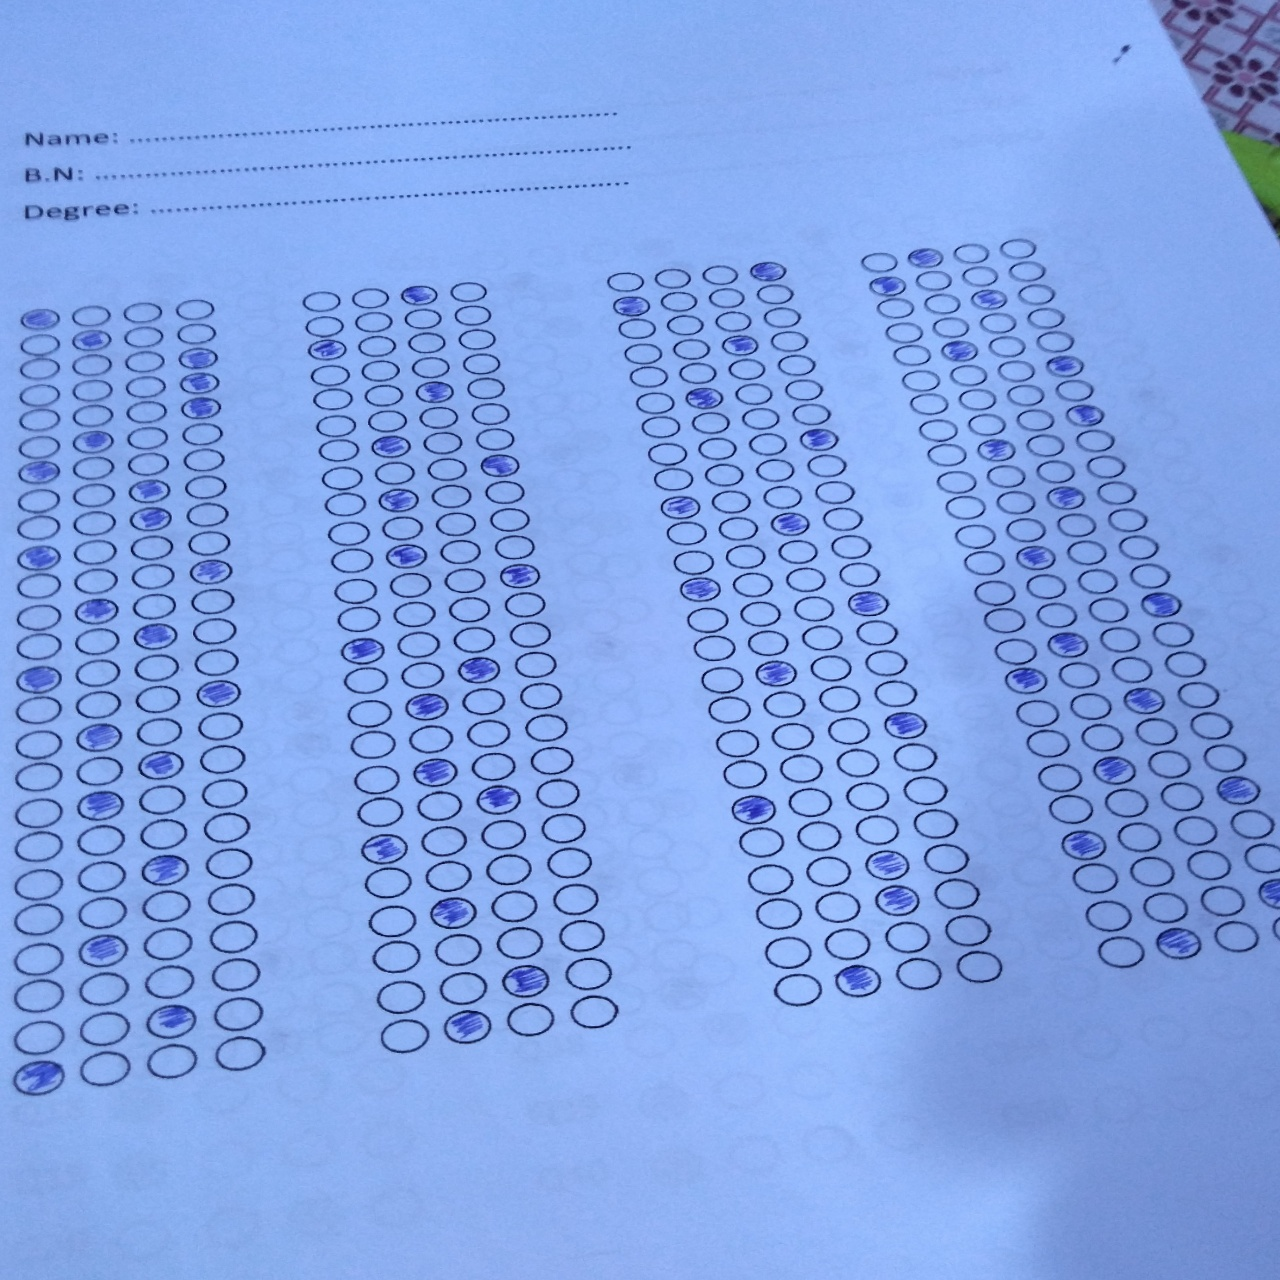not-c: (1083, 896, 1139, 935), (141, 924, 193, 965), (13, 1014, 64, 1055), (79, 1008, 130, 1049), (79, 1047, 130, 1088), (1068, 860, 1124, 898), (11, 939, 66, 976), (1141, 886, 1196, 924), (1199, 881, 1254, 919), (1211, 919, 1266, 956), (1090, 933, 1145, 971), (212, 1034, 264, 1074), (14, 978, 67, 1016), (145, 1040, 196, 1080), (568, 993, 621, 1030), (72, 822, 125, 858), (942, 908, 994, 946), (543, 843, 595, 879), (361, 864, 414, 900), (204, 844, 254, 881), (369, 903, 420, 940), (558, 918, 610, 954), (505, 999, 557, 1035), (496, 924, 547, 960), (762, 933, 813, 969), (844, 778, 896, 815), (855, 808, 906, 844), (433, 931, 485, 966), (370, 938, 423, 973), (379, 1017, 431, 1053), (437, 969, 490, 1005), (819, 924, 872, 959), (753, 897, 805, 932), (911, 806, 964, 842), (77, 857, 127, 894), (75, 896, 125, 932), (375, 978, 425, 1014), (141, 886, 192, 921), (207, 920, 259, 955), (954, 948, 1006, 983), (561, 955, 613, 990), (422, 856, 474, 891), (482, 851, 533, 886), (803, 855, 855, 890), (884, 921, 935, 956), (891, 740, 942, 775), (79, 971, 129, 1006), (14, 899, 64, 934), (549, 880, 599, 915), (893, 956, 944, 992), (811, 888, 862, 924), (743, 862, 794, 897), (772, 971, 823, 1006), (921, 839, 972, 874), (930, 876, 980, 911), (490, 888, 542, 922), (898, 772, 949, 806), (213, 996, 263, 1032), (212, 954, 261, 989), (14, 867, 63, 903), (191, 645, 243, 678), (132, 652, 184, 685), (145, 964, 195, 998), (207, 881, 257, 915), (75, 754, 125, 787), (11, 829, 61, 862), (13, 692, 61, 726), (14, 762, 64, 794), (14, 797, 64, 829), (203, 810, 250, 844), (138, 816, 185, 850), (135, 715, 182, 749), (16, 726, 63, 760), (72, 658, 125, 687), (130, 683, 178, 716), (414, 788, 461, 821), (1109, 652, 1156, 685), (459, 687, 508, 719), (527, 745, 576, 777), (704, 693, 753, 724), (697, 665, 745, 696), (339, 665, 387, 696), (138, 784, 186, 816), (1055, 660, 1103, 692), (978, 605, 1026, 636), (1145, 747, 1193, 778), (447, 624, 498, 653), (465, 719, 512, 750), (522, 712, 568, 743), (782, 563, 829, 594), (400, 658, 447, 689), (395, 629, 442, 661), (355, 796, 402, 828), (345, 699, 392, 730), (863, 646, 910, 678), (833, 745, 880, 777), (1035, 760, 1082, 791), (1114, 821, 1160, 852), (1035, 599, 1082, 631), (1023, 571, 1070, 602), (968, 578, 1015, 610), (1171, 813, 1218, 845), (1096, 624, 1143, 655), (1158, 646, 1205, 678), (1148, 617, 1194, 648), (1227, 806, 1274, 838), (1099, 503, 1146, 535), (1114, 530, 1160, 561), (833, 557, 880, 588), (830, 527, 877, 559), (191, 615, 239, 646), (765, 723, 813, 754), (760, 690, 808, 721), (745, 629, 794, 660), (714, 728, 762, 758), (1065, 688, 1114, 719), (1201, 742, 1250, 772), (1175, 679, 1223, 709), (74, 690, 123, 720), (516, 681, 563, 712), (536, 778, 583, 809), (734, 599, 781, 629), (737, 828, 784, 858), (717, 760, 764, 790), (692, 635, 738, 666), (418, 825, 465, 856), (407, 724, 454, 755), (481, 819, 527, 850), (794, 821, 840, 851), (789, 788, 836, 818), (776, 753, 823, 783), (771, 722, 818, 753), (199, 776, 246, 806), (195, 710, 241, 741), (390, 599, 437, 629), (352, 760, 399, 790), (348, 729, 395, 760), (1010, 697, 1057, 728), (1046, 794, 1092, 824), (817, 683, 864, 714), (873, 678, 920, 708), (894, 742, 941, 772), (1023, 726, 1070, 756), (1187, 849, 1234, 879), (1129, 855, 1176, 885), (1104, 787, 1151, 817), (1077, 723, 1124, 754), (989, 635, 1036, 666), (960, 546, 1007, 577), (951, 518, 998, 549), (1156, 778, 1203, 809), (1132, 717, 1179, 748), (1189, 709, 1235, 740), (1124, 559, 1171, 590), (1087, 595, 1133, 626), (1076, 567, 1123, 598), (1064, 538, 1111, 568), (75, 624, 120, 655), (445, 594, 491, 625), (470, 751, 517, 781), (538, 811, 585, 840), (792, 594, 839, 624), (198, 744, 245, 774), (855, 614, 901, 644), (828, 716, 874, 745), (389, 572, 436, 600), (990, 486, 1037, 515), (506, 619, 551, 648), (931, 471, 975, 501), (121, 298, 166, 326), (183, 501, 229, 529), (1003, 511, 1046, 542), (1055, 374, 1097, 404), (1085, 452, 1128, 483), (176, 321, 222, 349), (806, 653, 850, 682), (372, 459, 418, 486), (365, 407, 411, 434), (327, 546, 374, 573), (325, 520, 372, 547), (72, 568, 118, 595), (380, 516, 427, 543), (172, 293, 217, 321), (131, 561, 176, 590), (1076, 425, 1117, 456), (1096, 476, 1138, 505), (181, 474, 226, 501), (605, 265, 651, 292), (307, 362, 353, 389), (360, 382, 406, 409), (324, 491, 369, 518), (322, 465, 368, 492), (313, 411, 359, 438), (309, 388, 355, 415), (14, 572, 60, 599), (70, 539, 116, 566), (512, 651, 556, 679), (799, 622, 843, 651), (359, 359, 406, 384), (355, 333, 402, 359), (349, 309, 396, 335), (338, 605, 384, 631), (16, 408, 63, 434), (70, 510, 117, 536), (72, 482, 118, 508), (66, 406, 113, 431), (16, 604, 63, 629), (1053, 509, 1094, 538), (181, 422, 225, 449), (449, 275, 493, 302), (346, 282, 390, 309), (123, 399, 168, 425), (121, 325, 165, 352), (685, 606, 729, 633), (700, 259, 745, 285), (121, 348, 166, 374), (190, 588, 236, 614), (333, 577, 379, 602), (18, 515, 63, 540), (18, 486, 63, 512), (14, 434, 60, 459), (19, 382, 64, 408), (15, 358, 61, 383), (131, 593, 177, 619), (69, 456, 115, 482), (18, 633, 63, 659), (1241, 842, 1280, 872), (185, 530, 229, 557), (179, 445, 223, 472), (70, 350, 114, 377), (69, 302, 113, 329), (443, 567, 486, 594), (131, 533, 172, 561), (1035, 458, 1076, 486), (16, 332, 61, 358), (299, 287, 343, 313), (425, 455, 470, 481), (774, 353, 818, 379), (124, 375, 166, 402), (1024, 302, 1067, 329), (998, 234, 1040, 261), (316, 435, 362, 459), (302, 312, 346, 338), (644, 440, 687, 465), (670, 550, 714, 576), (716, 516, 760, 542), (947, 360, 990, 386), (898, 367, 941, 393), (1005, 381, 1048, 407), (965, 411, 1008, 437), (1005, 257, 1048, 282), (501, 592, 545, 617), (625, 365, 669, 389), (803, 451, 847, 476), (617, 315, 659, 341), (724, 543, 767, 568), (956, 386, 999, 411), (452, 326, 498, 349), (459, 352, 503, 376), (482, 481, 525, 505), (433, 510, 476, 535), (640, 413, 683, 437), (634, 389, 678, 414), (675, 360, 719, 384), (740, 406, 783, 430), (770, 327, 813, 352), (763, 306, 806, 331), (924, 442, 967, 467), (906, 390, 949, 415), (988, 334, 1032, 359), (1022, 433, 1065, 457), (72, 379, 113, 404), (435, 511, 479, 535), (745, 431, 790, 455), (788, 402, 832, 425), (942, 495, 987, 518), (881, 322, 926, 346), (402, 306, 444, 331), (471, 401, 513, 425), (731, 381, 774, 406), (915, 415, 958, 440), (994, 359, 1036, 383), (1016, 406, 1058, 430), (983, 465, 1026, 490), (1035, 327, 1077, 352), (418, 404, 462, 428), (407, 331, 450, 354), (492, 535, 536, 558), (486, 508, 530, 531), (475, 425, 518, 449), (467, 377, 510, 401), (430, 484, 474, 508), (620, 342, 663, 366), (440, 538, 483, 561), (652, 467, 695, 490), (668, 338, 712, 361), (663, 520, 707, 544), (760, 484, 803, 508), (755, 458, 798, 482), (688, 411, 731, 435), (812, 481, 856, 504), (781, 376, 824, 400), (777, 539, 821, 563), (821, 505, 864, 529), (888, 343, 932, 367), (125, 425, 166, 450), (411, 355, 454, 379), (421, 431, 463, 455), (688, 411, 730, 435), (729, 358, 771, 381), (731, 572, 774, 595), (710, 491, 753, 515), (700, 464, 742, 488), (696, 437, 738, 461), (452, 304, 493, 327), (651, 266, 693, 288), (125, 375, 165, 399), (706, 285, 745, 308), (665, 314, 704, 338), (1017, 282, 1058, 305), (857, 251, 898, 273), (951, 241, 993, 263), (959, 263, 1001, 284), (658, 290, 697, 312), (755, 282, 795, 305), (978, 311, 1017, 333), (930, 316, 971, 338), (874, 297, 915, 318), (913, 268, 954, 290), (922, 292, 964, 313), (128, 452, 166, 475), (714, 309, 753, 331), (1266, 915, 1280, 952)
taken-c: (11, 1058, 72, 1097), (441, 1005, 493, 1046), (1153, 925, 1208, 964), (142, 1002, 199, 1039), (829, 964, 885, 1000), (870, 881, 926, 918), (501, 961, 554, 998), (77, 933, 132, 967), (879, 709, 932, 743), (69, 722, 127, 753), (1057, 828, 1108, 862), (864, 847, 915, 880), (141, 851, 189, 885), (431, 896, 481, 928), (1088, 754, 1137, 787), (1042, 629, 1092, 661), (74, 789, 124, 819), (1119, 685, 1167, 716), (336, 635, 386, 666), (1214, 774, 1264, 804), (72, 595, 122, 625), (15, 542, 63, 572), (1137, 588, 1185, 619), (1005, 663, 1050, 695), (456, 655, 505, 685), (359, 833, 408, 863), (1012, 542, 1061, 571), (195, 678, 241, 708), (475, 785, 525, 813), (137, 750, 188, 778), (413, 757, 461, 787), (64, 327, 116, 354), (840, 590, 892, 617), (396, 279, 445, 307), (729, 794, 778, 822), (406, 693, 454, 721), (15, 663, 61, 693), (66, 428, 117, 454), (753, 660, 799, 687), (132, 622, 179, 649), (177, 343, 222, 372), (178, 395, 223, 423), (177, 369, 222, 397), (16, 306, 64, 332), (659, 493, 704, 520), (377, 486, 421, 515), (124, 478, 171, 504), (12, 459, 59, 485), (747, 257, 791, 284), (719, 332, 763, 359), (478, 452, 526, 477), (610, 292, 655, 318), (681, 384, 727, 410), (129, 508, 175, 533), (678, 577, 723, 602), (496, 563, 542, 588), (188, 557, 233, 583), (973, 437, 1019, 463), (1061, 401, 1107, 427), (938, 338, 983, 363), (367, 434, 414, 458), (1046, 484, 1087, 512), (384, 543, 429, 568), (305, 338, 350, 362), (768, 512, 813, 537), (797, 427, 840, 452), (971, 284, 1013, 309), (864, 273, 908, 297), (1044, 354, 1090, 376), (413, 381, 456, 404), (903, 246, 947, 268), (1257, 873, 1280, 911)
